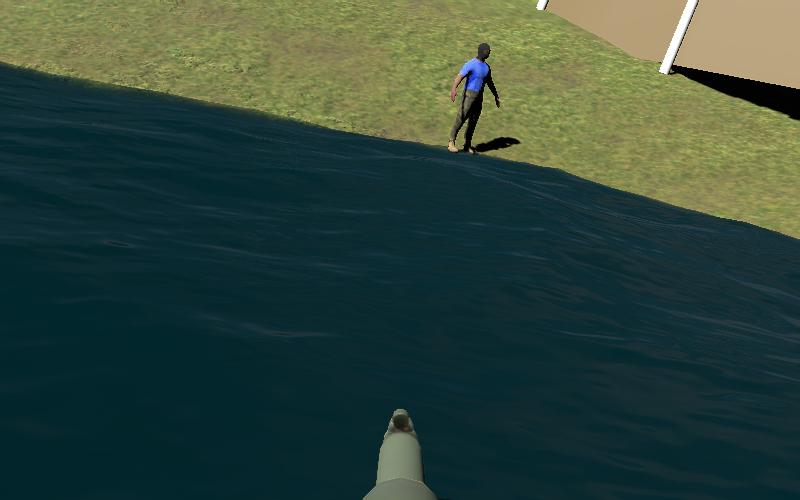Human: (446, 40, 502, 156)
